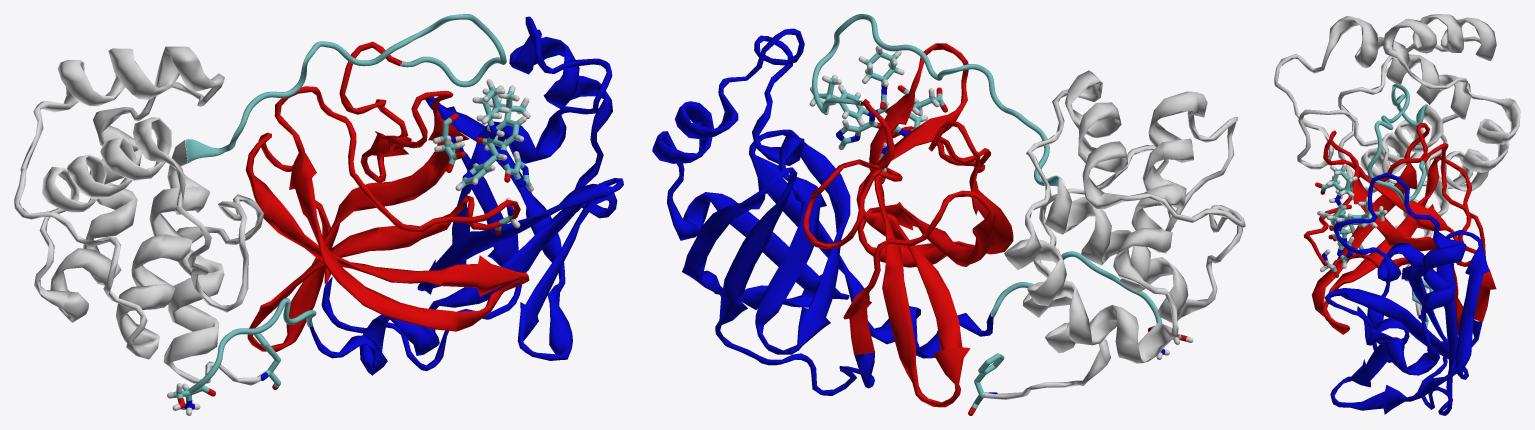
The model's file is ligand_binder.glb.
3 renders of one model, left to right at view 1: azimuth 30°, elevation 25°; view 2: azimuth 150°, elevation 25°; view 3: azimuth 270°, elevation 25°, orthographic. The views are drawn at different scales.
Parts seen in each view (by area): view 1: vmd_mol0_rep3, vmd_mol0_rep2, vmd_mol0_rep0, vmd_mol0_rep4, vmd_mol0_rep5, vmd_mol0_rep6, vmd_mol0_rep9; view 2: vmd_mol0_rep3, vmd_mol0_rep0, vmd_mol0_rep2, vmd_mol0_rep4, vmd_mol0_rep5, vmd_mol0_rep8, vmd_mol0_rep6; view 3: vmd_mol0_rep0, vmd_mol0_rep3, vmd_mol0_rep2, vmd_mol0_rep4, vmd_mol0_rep5.
Part boxes in pixels (x1,y1,x2,y2): vmd_mol0_rep3: [14, 46, 267, 385]; vmd_mol0_rep2: [245, 41, 529, 351]; vmd_mol0_rep0: [309, 16, 623, 375]; vmd_mol0_rep4: [185, 14, 506, 397]; vmd_mol0_rep5: [455, 79, 533, 191]; vmd_mol0_rep6: [433, 113, 465, 172]; vmd_mol0_rep9: [167, 383, 215, 415]; vmd_mol0_rep3: [981, 70, 1245, 399]; vmd_mol0_rep0: [652, 28, 993, 395]; vmd_mol0_rep2: [802, 43, 1013, 407]; vmd_mol0_rep4: [812, 14, 1162, 323]; vmd_mol0_rep5: [809, 45, 927, 149]; vmd_mol0_rep8: [968, 353, 1004, 415]; vmd_mol0_rep6: [897, 85, 947, 116]; vmd_mol0_rep0: [1324, 172, 1489, 415]; vmd_mol0_rep3: [1274, 14, 1520, 316]; vmd_mol0_rep2: [1303, 123, 1496, 335]; vmd_mol0_rep4: [1330, 83, 1427, 255]; vmd_mol0_rep5: [1317, 163, 1387, 268].
Size of the model in its own units: 2.74 by 1.7 by 1.3.
